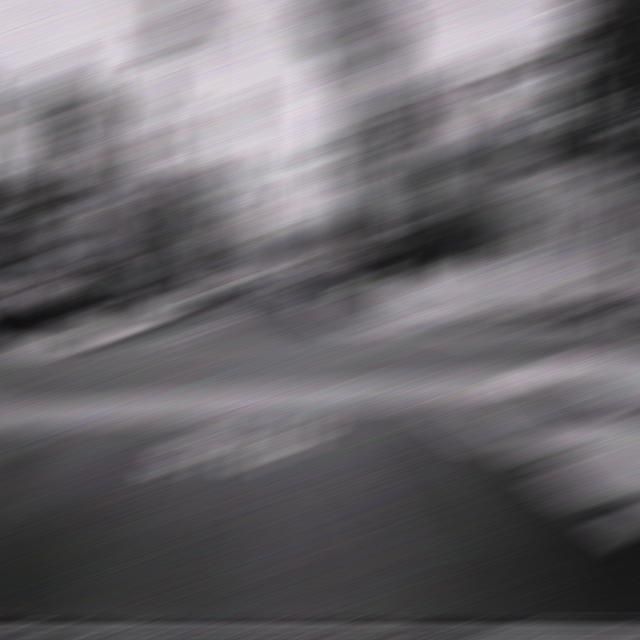speedLimit25: (343, 206, 378, 229)
stop: (481, 92, 545, 164)
